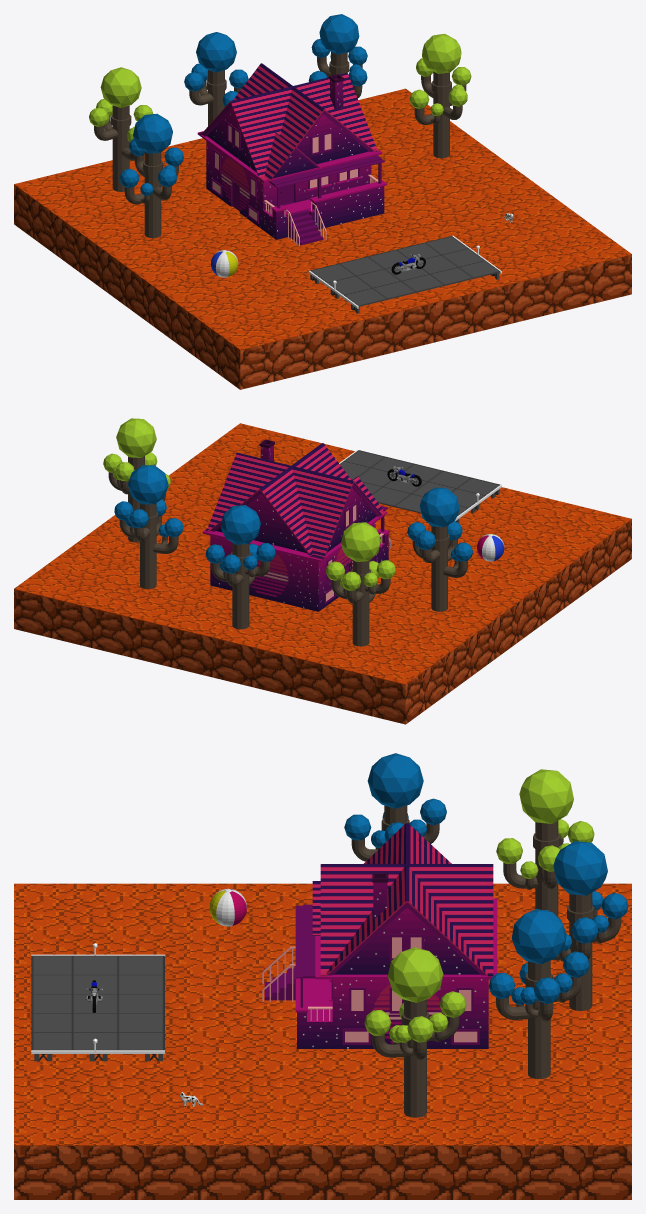
The picture shows the model from 3 angles, top to bottom: view 1: azimuth 30°, elevation 25°; view 2: azimuth 150°, elevation 25°; view 3: azimuth 270°, elevation 25°; orthographic projection. The views are drawn at different scales.
Parts seen in each view (by area): view 1: Cube.001, Cube.156, OBJRANDOM_BEACHBALL; view 2: Cube.001, Cube.156, OBJRANDOM_BEACHBALL; view 3: Cube.001, Cube.156, OBJRANDOM_BEACHBALL.
Part boxes in pixels (x1,y1,x2,y2): Cube.001: [14, 14, 631, 389]; Cube.156: [197, 63, 387, 246]; OBJRANDOM_BEACHBALL: [211, 250, 238, 277]; Cube.001: [14, 418, 631, 724]; Cube.156: [202, 439, 391, 611]; OBJRANDOM_BEACHBALL: [477, 534, 504, 561]; Cube.001: [14, 753, 631, 1199]; Cube.156: [262, 823, 497, 1048]; OBJRANDOM_BEACHBALL: [209, 888, 246, 926].
Bounding box in the file's own units: 4000 × 1680 × 4000.
32 materials, 6 textured.
